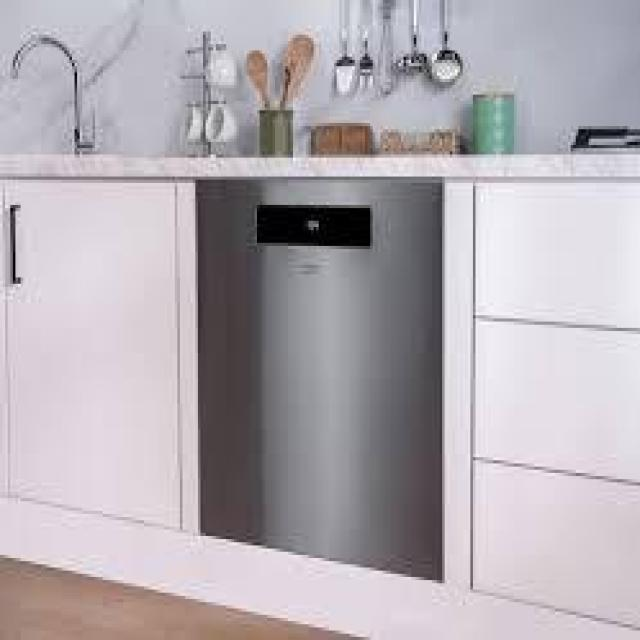dishwasher: (188, 170, 452, 593)
